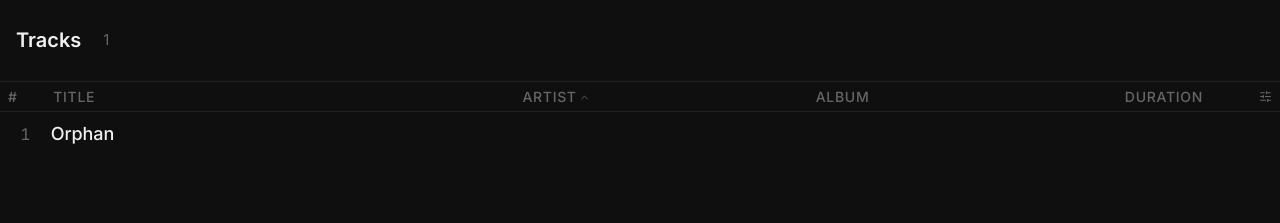
TrackTableView context menu › hides Go to Artist for a track with no artist
Step 1. Right-click the button "1 Orphan" → (82, 133), box left=0, top=112, right=1279, bottom=156
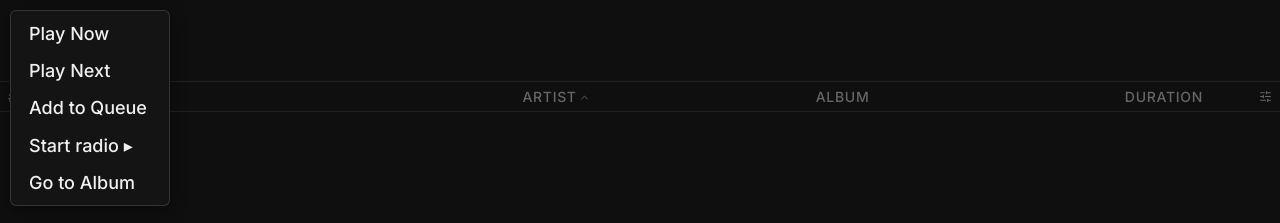
Result: the button "Go to Album" is shown at left=11, top=164, right=169, bottom=201
